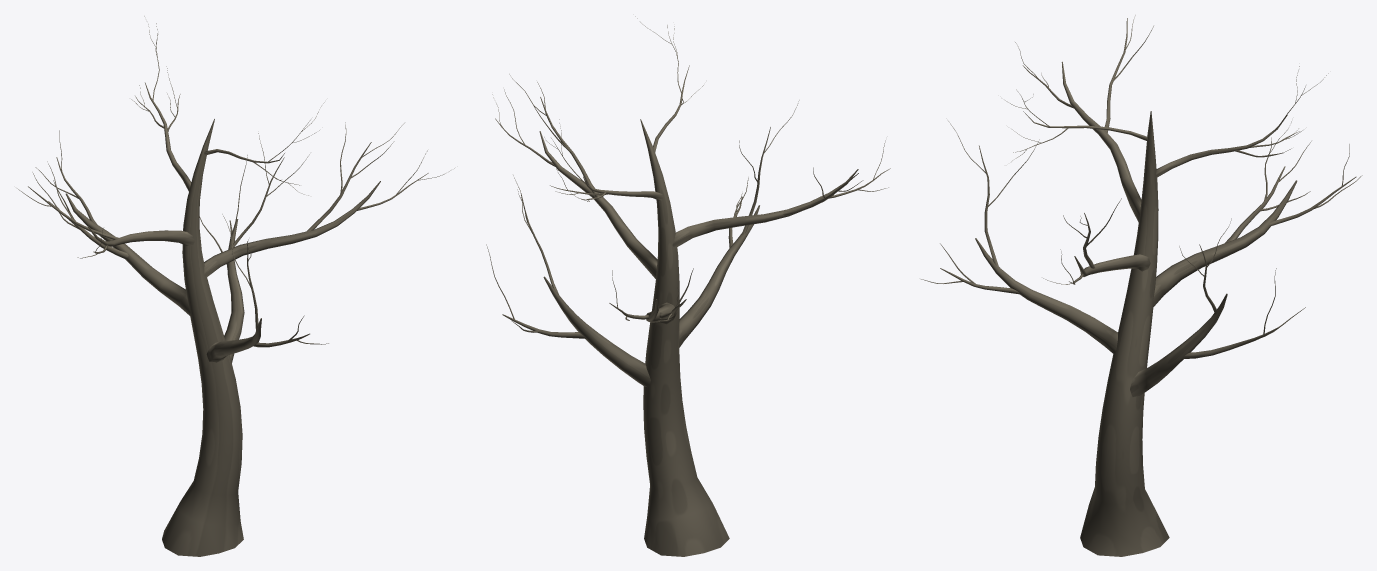
The model's file is tree.gltf.
3 renders of one model, left to right at view 1: azimuth 30°, elevation 25°; view 2: azimuth 150°, elevation 25°; view 3: azimuth 270°, elevation 25°, orthographic. The views are drawn at different scales.
Parts seen in each view (by area): view 1: Tree_LOD0; view 2: Tree_LOD0; view 3: Tree_LOD0.
Part boxes in pixels (x1=…): Tree_LOD0: x1=17, y1=16, x2=454, y2=556; Tree_LOD0: x1=486, y1=16, x2=890, y2=556; Tree_LOD0: x1=921, y1=15, x2=1362, y2=556.
Size of the model in its own units: 15.53 by 16.8 by 13.65.
Materials: 1 (1 with a texture image).
